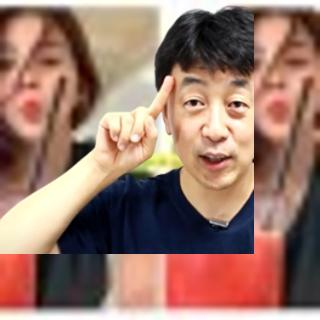IRRITATED: (90, 72, 175, 179)
